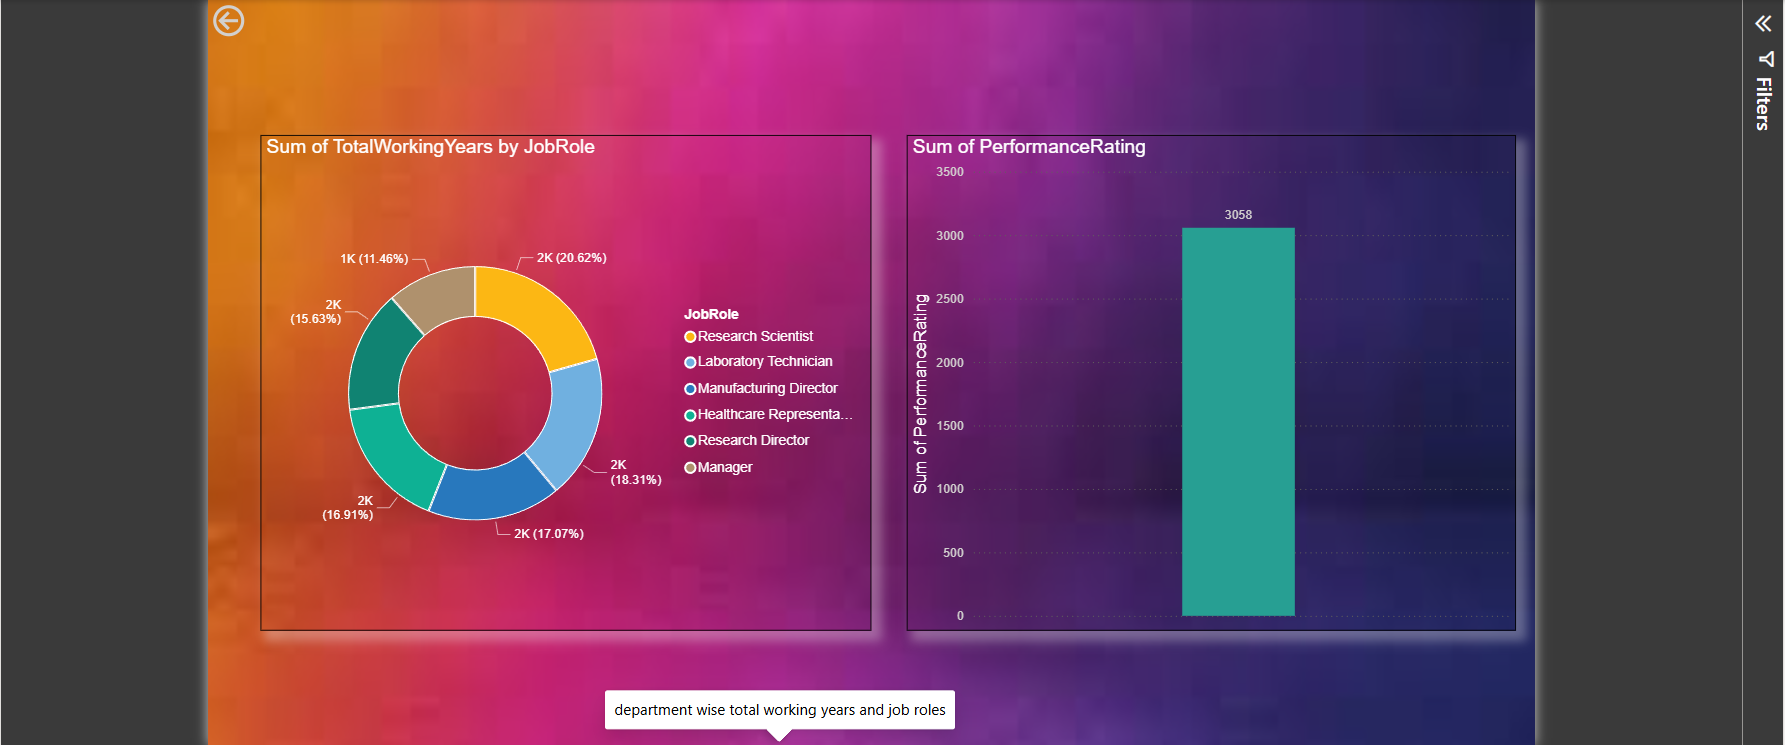

This screenshot's page, from the dashboard's own definition file:
{"tool":"powerbi","page":{"name":"department wise total working years and job roles","canvas":[1280,720],"ordinal":3},"visuals":[{"type":"actionButton","box":[0,0,100,40],"z":0},{"type":"donutChart","fields":{"Category":["HR_Analytics.JobRole"],"Y":["Sum(HR_Analytics.TotalWorkingYears)"]},"box":[50.8,130.8,589.2,478.5],"z":1000},{"type":"columnChart","fields":{"Y":["Sum(HR_Analytics.PerformanceRating)"]},"box":[673.8,130.8,587.7,478.5],"z":2000}]}

Visuals, with their boxes on the page's 1280x720 design canvas (x1, y1, x2, y2). These are canvas units, not pixel positions in the 1785x745 screenshot, which may show the page scaled, cropped or inside an application window:
actionButton: {"x1": 0, "y1": 0, "x2": 100, "y2": 40}
donutChart - HR_Analytics.JobRole x Sum(HR_Analytics.TotalWorkingYears): {"x1": 51, "y1": 131, "x2": 640, "y2": 609}
columnChart - Sum(HR_Analytics.PerformanceRating): {"x1": 674, "y1": 131, "x2": 1262, "y2": 609}
